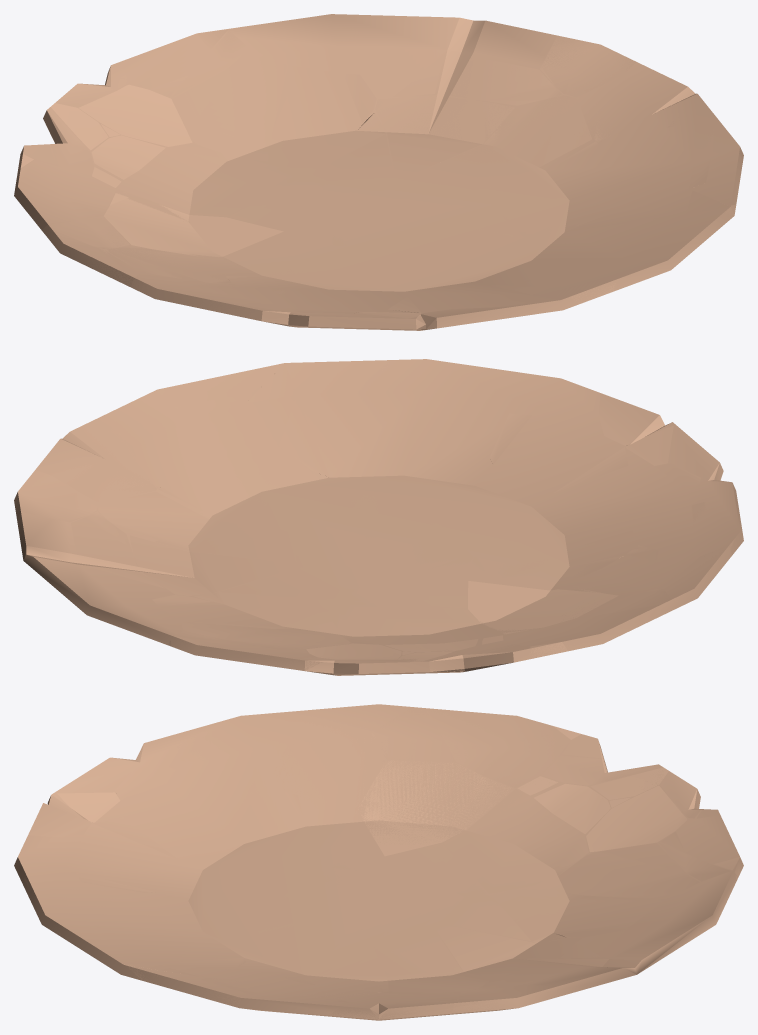
File: plateRoundBroke.fbx
The picture shows the model from 3 angles, top to bottom: view 1: azimuth 30°, elevation 25°; view 2: azimuth 150°, elevation 25°; view 3: azimuth 270°, elevation 25°; orthographic projection.
Parts seen in each view (by area): view 1: obj_plateRound_C, obj_plateRound_C_cell.016, obj_plateRound_C_cell.079, obj_plateRound_C_cell.030, obj_plateRound_C_cell.026, obj_plateRound_C_cell.052, obj_plateRound_C_cell.048, obj_plateRound_C_cell.015, obj_plateRound_C_cell.004, obj_plateRound_C_cell.002, obj_plateRound_C_cell.035, obj_plateRound_C_cell.066 (+16 smaller); view 2: obj_plateRound_C, obj_plateRound_C_cell.030, obj_plateRound_C_cell.016, obj_plateRound_C_cell.026, obj_plateRound_C_cell.052, obj_plateRound_C_cell.015, obj_plateRound_C_cell.073, obj_plateRound_C_cell.035, obj_plateRound_C_cell.079, obj_plateRound_C_cell.066, obj_plateRound_C_cell.002, obj_plateRound_C_cell.007 (+19 smaller); view 3: obj_plateRound_C, obj_plateRound_C_cell.016, obj_plateRound_C_cell.015, obj_plateRound_C_cell.052, obj_plateRound_C_cell.079, obj_plateRound_C_cell.030, obj_plateRound_C_cell.026, obj_plateRound_C_cell.004, obj_plateRound_C_cell.048, obj_plateRound_C_cell.066, obj_plateRound_C_cell.037, obj_plateRound_C_cell.050 (+19 smaller).
Boxes of the visible parts, x1,y1,x2,y2 form: obj_plateRound_C: (16,14,743,330); obj_plateRound_C_cell.016: (117,143,307,216); obj_plateRound_C_cell.079: (172,49,286,161); obj_plateRound_C_cell.030: (407,95,591,190); obj_plateRound_C_cell.026: (375,95,514,177); obj_plateRound_C_cell.052: (104,193,283,257); obj_plateRound_C_cell.048: (269,65,376,161); obj_plateRound_C_cell.015: (14,160,116,230); obj_plateRound_C_cell.004: (79,84,192,146); obj_plateRound_C_cell.002: (438,56,561,105); obj_plateRound_C_cell.035: (540,35,635,97); obj_plateRound_C_cell.066: (228,175,326,230); obj_plateRound_C: (17,359,743,675); obj_plateRound_C_cell.030: (98,491,296,562); obj_plateRound_C_cell.016: (333,600,502,644); obj_plateRound_C_cell.026: (130,535,300,595); obj_plateRound_C_cell.052: (468,581,618,634); obj_plateRound_C_cell.015: (504,604,662,649); obj_plateRound_C_cell.073: (290,494,473,579); obj_plateRound_C_cell.035: (14,470,98,522); obj_plateRound_C_cell.079: (181,622,351,648); obj_plateRound_C_cell.066: (339,577,466,608); obj_plateRound_C_cell.002: (71,511,137,571); obj_plateRound_C_cell.007: (246,360,388,477); obj_plateRound_C: (14,704,739,1020); obj_plateRound_C_cell.016: (443,789,588,893); obj_plateRound_C_cell.015: (426,708,570,787); obj_plateRound_C_cell.052: (358,760,510,856); obj_plateRound_C_cell.079: (536,843,699,899); obj_plateRound_C_cell.030: (373,927,486,991); obj_plateRound_C_cell.026: (434,924,581,978); obj_plateRound_C_cell.004: (586,785,687,851); obj_plateRound_C_cell.048: (554,894,662,937); obj_plateRound_C_cell.066: (381,843,486,896); obj_plateRound_C_cell.037: (440,894,566,942); obj_plateRound_C_cell.050: (534,783,610,833).
Size of the model in its own units: 133 by 11.65 by 133.
